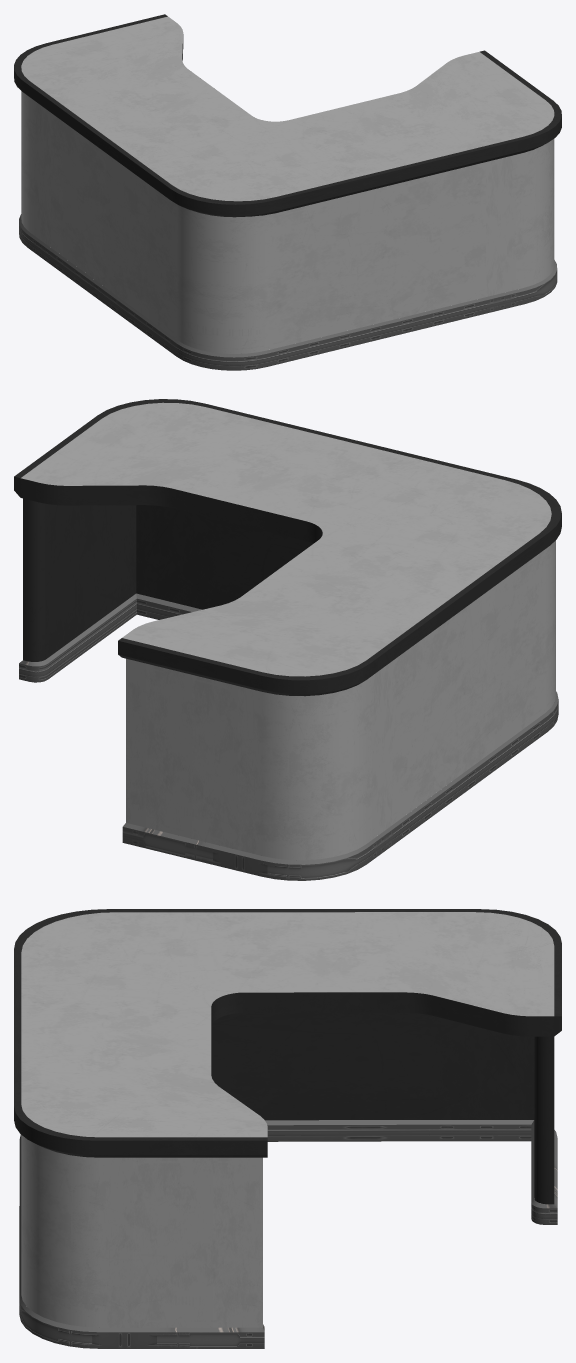
File: Prop_Desk_L.gltf
3 views of the same model, one above another, from view 1: azimuth 30°, elevation 25°; view 2: azimuth 150°, elevation 25°; view 3: azimuth 270°, elevation 25° (orthographic). The views are drawn at different scales.
Parts seen in each view (by area): view 1: Prop_Desk_L; view 2: Prop_Desk_L; view 3: Prop_Desk_L.
Boxes of the visible parts, x1,y1,x2,y2 form: Prop_Desk_L: (14,14,561,370); Prop_Desk_L: (14,399,561,880); Prop_Desk_L: (14,909,561,1348).
Bounding box in the file's own units: 2.22 × 0.9396 × 2.22.
Materials: 3 (3 with a texture image).
